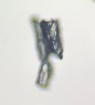microplastic: (31, 18, 63, 87)
